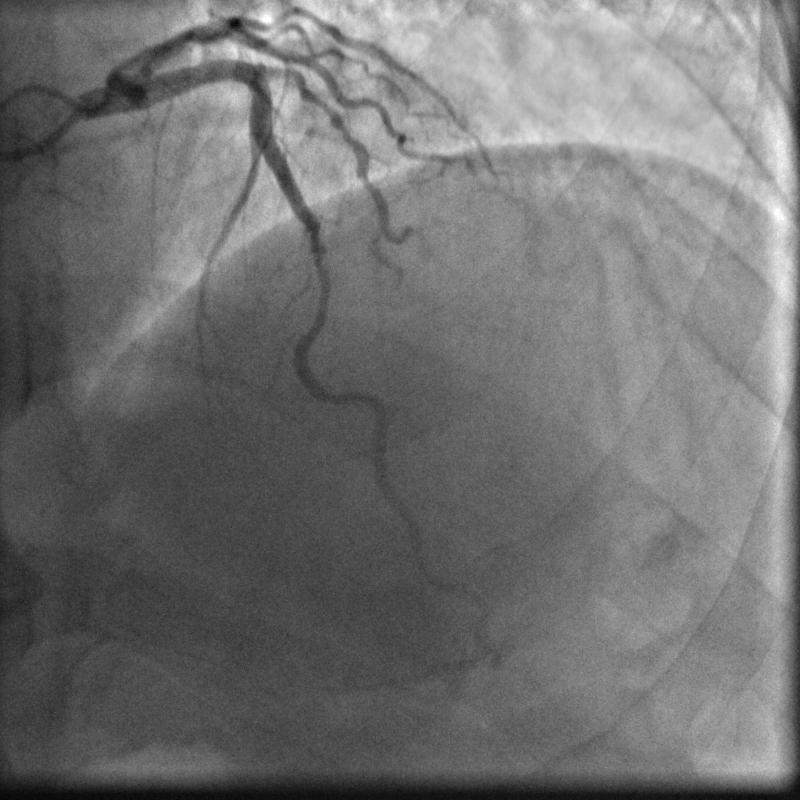Stenosis: (305, 228, 332, 328)
